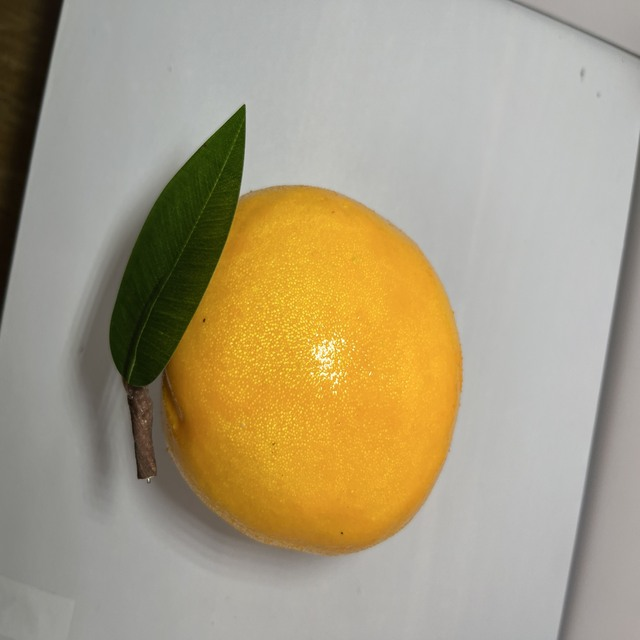Cam vang: (123, 175, 466, 560)
